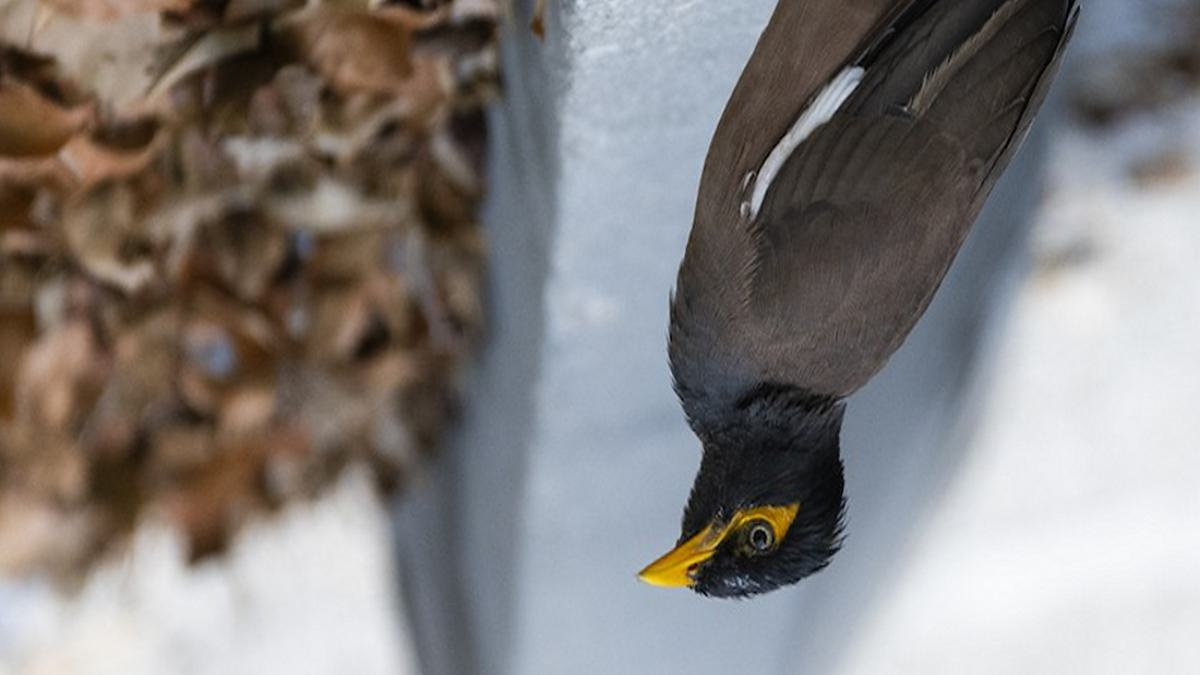myna: (621, 1, 1045, 621)
